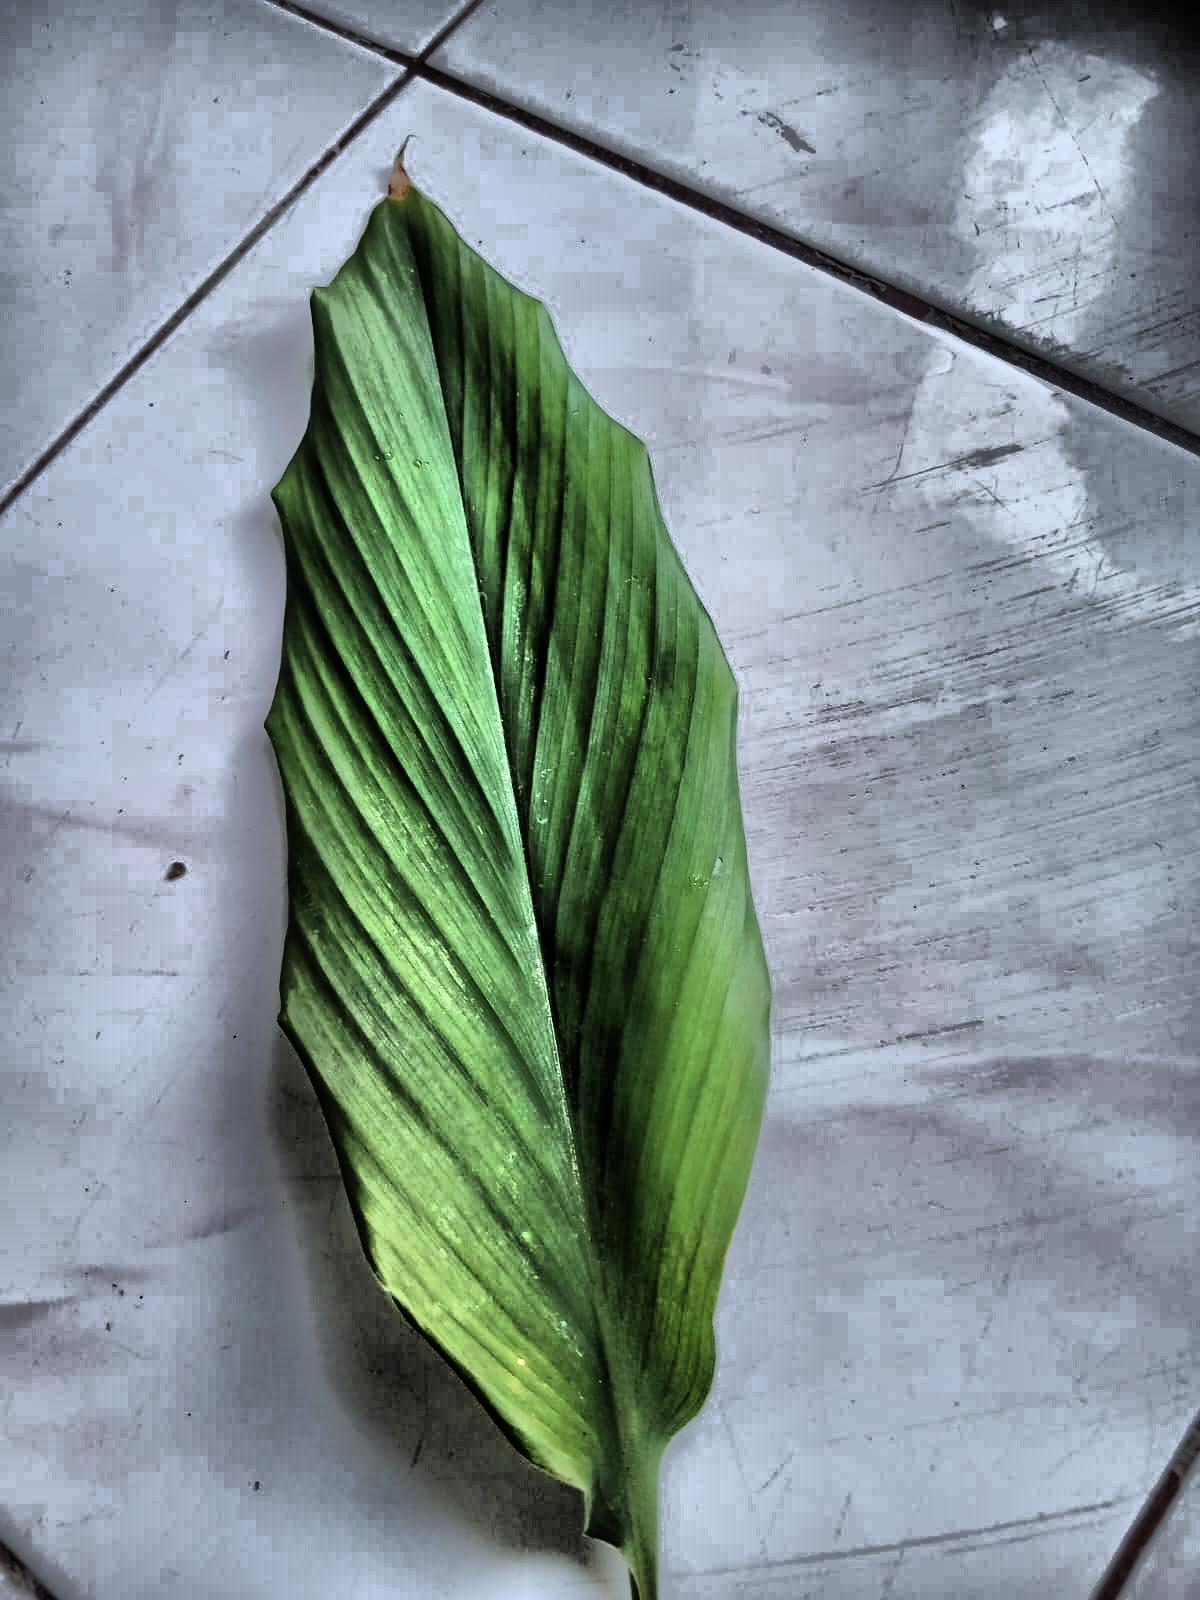daun kunyit: (267, 163, 770, 1599)
